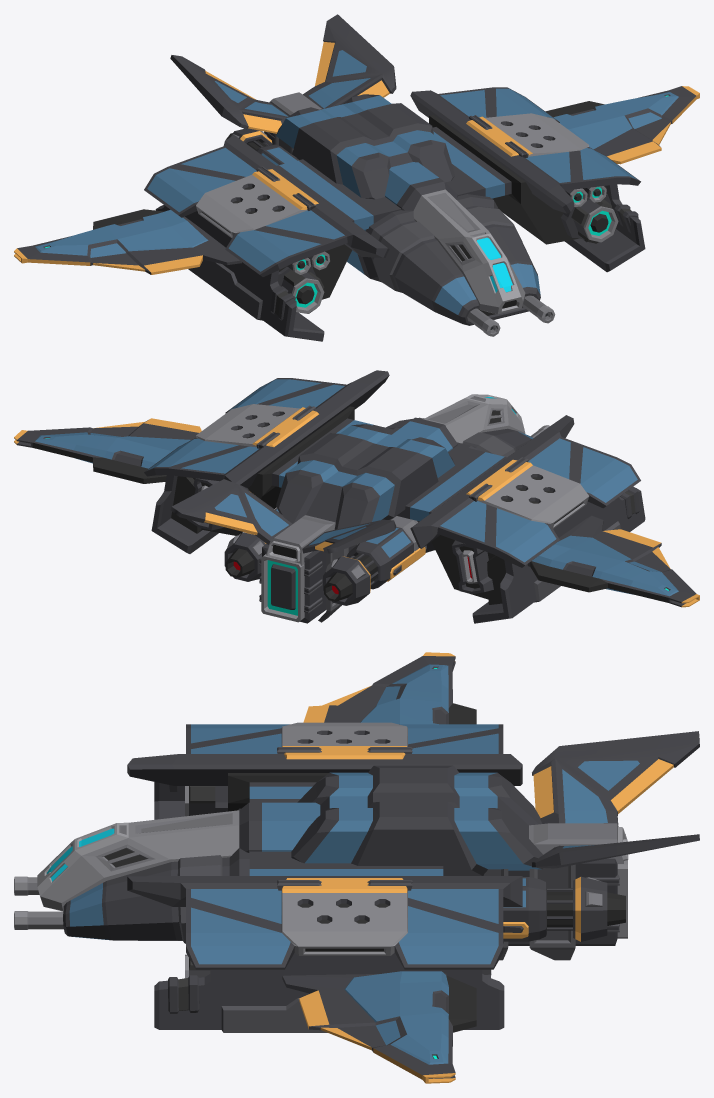
The picture shows the model from 3 angles, top to bottom: view 1: azimuth 30°, elevation 25°; view 2: azimuth 150°, elevation 25°; view 3: azimuth 270°, elevation 25°; orthographic projection. The views are drawn at different scales.
Visible parts, largest first — view 1: SM_Ship_Bomber_03; view 2: SM_Ship_Bomber_03; view 3: SM_Ship_Bomber_03.
Part boxes in pixels (<box>): SM_Ship_Bomber_03: <box>14,14,699,341</box>; SM_Ship_Bomber_03: <box>14,370,699,623</box>; SM_Ship_Bomber_03: <box>14,652,699,1083</box>.
Size of the model in its own units: 30.28 by 5.47 by 20.66.
Materials: 2 (1 with a texture image).
